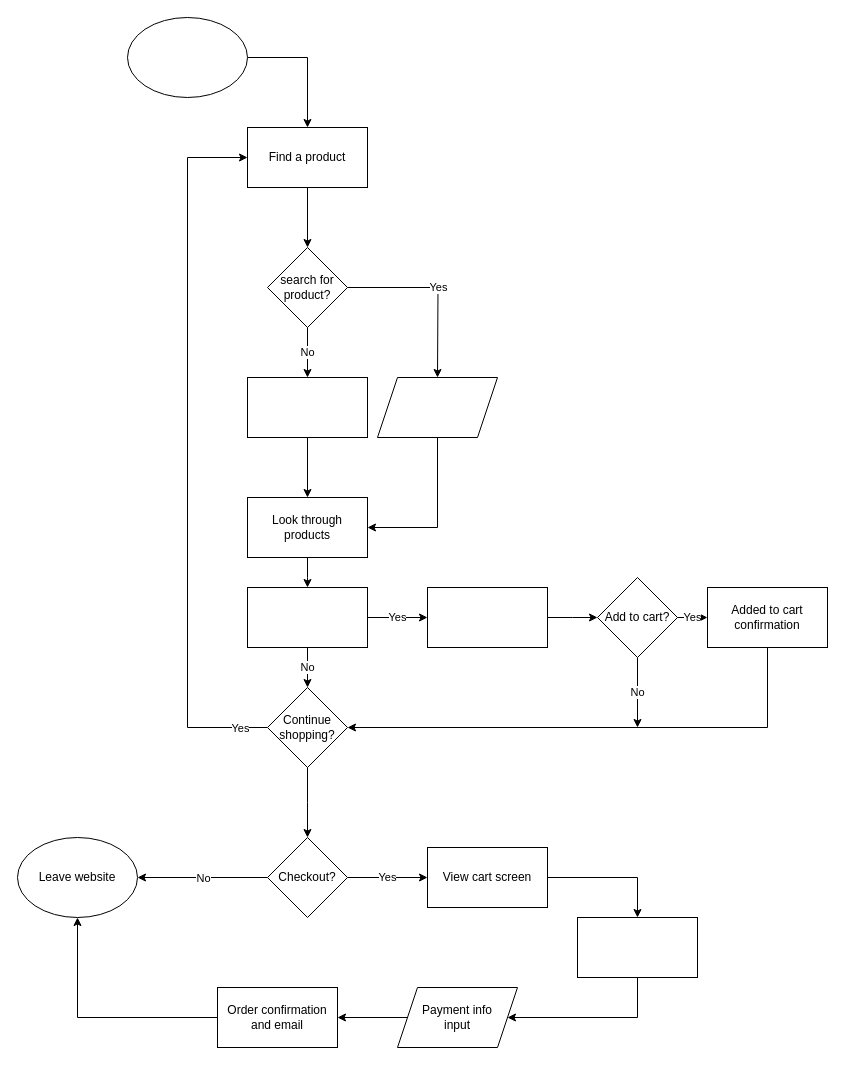
This 845x1065 diagram has some shape labels left out. Here are the shapes that lost their labels. From the top down, the box of each, then its label:
(126, 16, 248, 98): Start
(246, 376, 368, 438): Go through explore page
(376, 376, 498, 438): Lookup product in search bar
(246, 586, 368, 648): View item?
(426, 586, 548, 648): Open product's webpage
(576, 916, 698, 978): View payment screen
